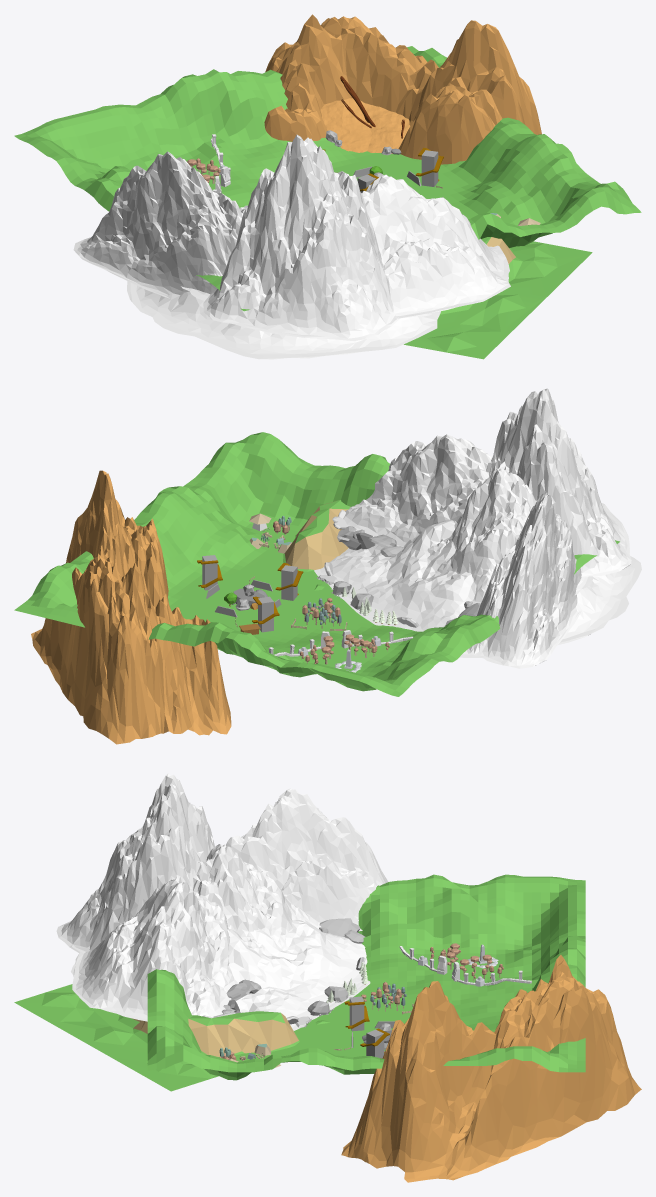
The model's file is mapv6.glb.
3 renders of one model, top to bottom at view 1: azimuth 30°, elevation 25°; view 2: azimuth 150°, elevation 25°; view 3: azimuth 270°, elevation 25°, orthographic. The views are drawn at different scales.
Visible parts, largest first — view 1: Terrain, Ice_Mountain__3_, Mounting_2, Ice_Mountain__4_, Ice_Mountain__2_, Terrain_1.001, Ice_Mountain, Environment_1, Cube; view 2: Terrain, Mounting_2, Ice_Mountain, Ice_Mountain__4_, Ice_Mountain__3_, Ice_Mountain__2_, Ice_Mountain__1_, Terrain_1.001, Cube_1; view 3: Terrain, Mounting_2, Ice_Mountain__2_, Ice_Mountain__4_, Ice_Mountain__3_, Terrain_1.001, Ice_Mountain, Ice_Mountain__1_.
Part boxes in pixels (left/top/right/bottom): Terrain: left=14, top=46, right=641, bottom=311; Ice_Mountain__3_: left=203, top=134, right=399, bottom=340; Mounting_2: left=264, top=14, right=541, bottom=164; Ice_Mountain__4_: left=73, top=151, right=242, bottom=299; Ice_Mountain__2_: left=362, top=174, right=510, bottom=318; Terrain_1.001: left=404, top=237, right=592, bottom=359; Ice_Mountain: left=127, top=281, right=440, bottom=359; Environment_1: left=320, top=98, right=410, bottom=153; Cube: left=421, top=150, right=438, bottom=186; Terrain: left=14, top=432, right=619, bottom=696; Mounting_2: left=31, top=470, right=231, bottom=744; Ice_Mountain: left=314, top=520, right=641, bottom=657; Ice_Mountain__4_: left=467, top=492, right=581, bottom=668; Ice_Mountain__3_: left=486, top=388, right=631, bottom=576; Ice_Mountain__2_: left=343, top=434, right=491, bottom=547; Ice_Mountain__1_: left=427, top=468, right=592, bottom=604; Terrain_1.001: left=283, top=500, right=350, bottom=590; Cube_1: left=281, top=565, right=297, bottom=600; Terrain: left=147, top=874, right=585, bottom=1080; Mounting_2: left=341, top=955, right=641, bottom=1182; Ice_Mountain__2_: left=72, top=877, right=238, bottom=1021; Ice_Mountain__4_: left=226, top=788, right=388, bottom=931; Ice_Mountain__3_: left=56, top=773, right=215, bottom=953; Terrain_1.001: left=14, top=984, right=330, bottom=1091; Ice_Mountain: left=71, top=919, right=370, bottom=1030; Ice_Mountain__1_: left=198, top=844, right=321, bottom=953.
Size of what is drawn, in the model's own units: 235 by 108 by 269.
